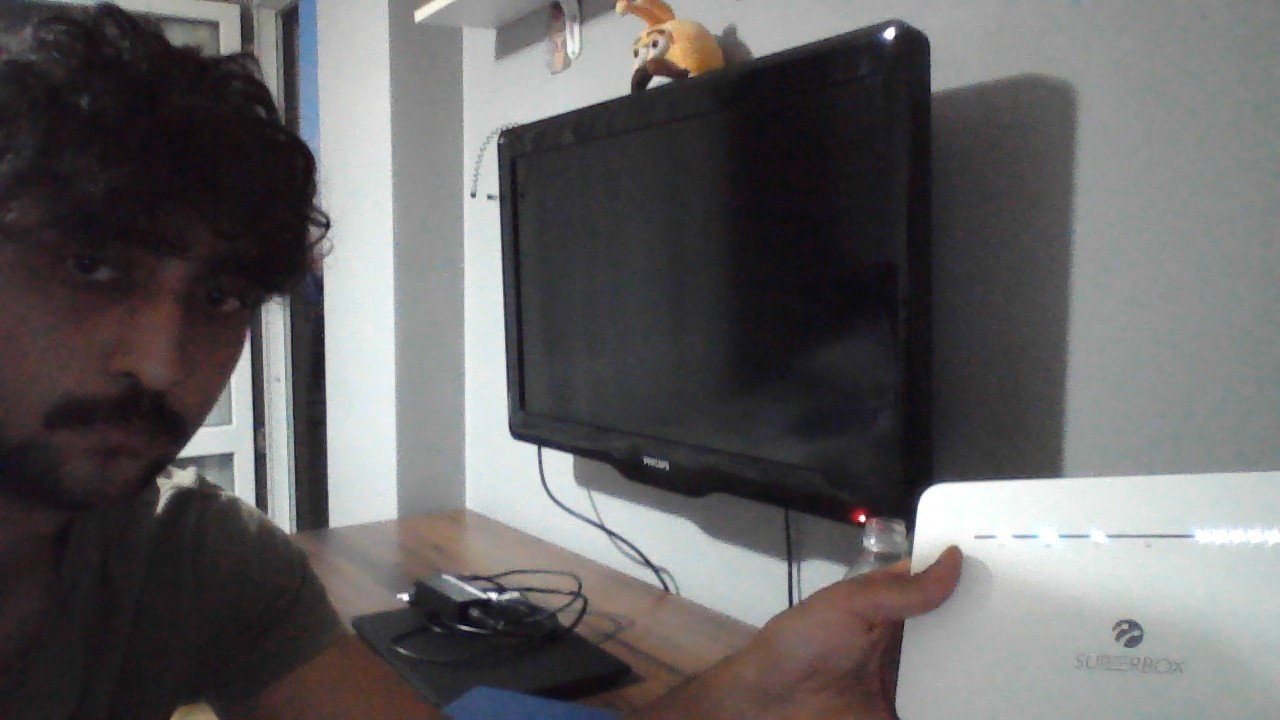turkcell: (1113, 614, 1149, 651)
